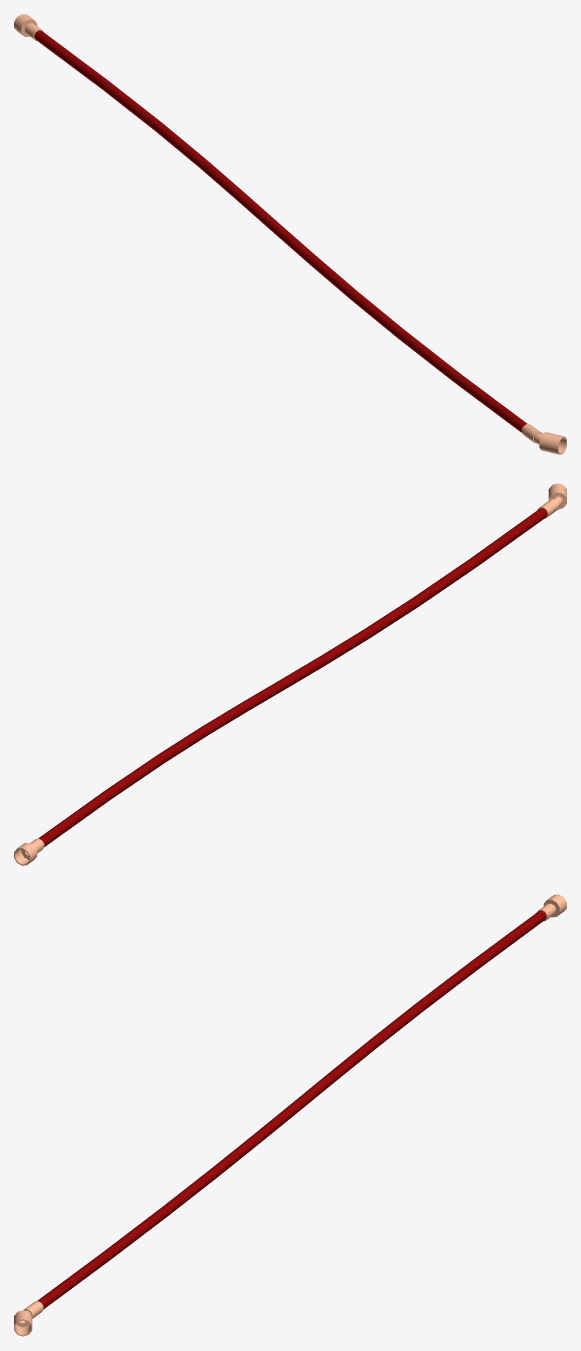
Rendered from wire_red.glb.
3 renders of one model, top to bottom at view 1: azimuth 30°, elevation 25°; view 2: azimuth 150°, elevation 25°; view 3: azimuth 330°, elevation 25°, orthographic.
Visible parts, largest first — view 1: wr_03, nr_1, wr_10, wr_04, wr_09, wr_05, wr_06, wr_08, wr_07; view 2: wr_03, wr_10, wr_04, wr_09, wr_05, nr_1, nr_2, wr_06, wr_08, wr_07, wr_02, wr_01 (+1 smaller); view 3: wr_03, wr_10, wr_04, wr_09, nr_1, wr_05, wr_06, wr_08, wr_07.
Part boxes in pixels (left/top/right/bottom): wr_03: left=396, top=329, right=460, bottom=381; nr_1: left=521, top=424, right=566, bottom=454; wr_10: left=101, top=81, right=161, bottom=131; wr_04: left=349, top=290, right=403, bottom=337; wr_09: left=154, top=122, right=204, bottom=166; wr_05: left=308, top=255, right=356, bottom=298; wr_06: left=271, top=222, right=316, bottom=263; wr_08: left=197, top=158, right=241, bottom=198; wr_07: left=234, top=190, right=278, bottom=230; wr_03: left=413, top=558, right=477, bottom=606; wr_10: left=104, top=754, right=165, bottom=799; wr_04: left=364, top=597, right=419, bottom=637; wr_09: left=159, top=725, right=210, bottom=762; wr_05: left=321, top=629, right=371, bottom=664; nr_1: left=537, top=483, right=566, bottom=518; nr_2: left=14, top=838, right=44, bottom=865; wr_06: left=281, top=655, right=328, bottom=687; wr_08: left=203, top=701, right=249, bottom=734; wr_07: left=242, top=679, right=288, bottom=710; wr_02: left=470, top=533, right=512, bottom=566; wr_01: left=505, top=508, right=547, bottom=541; wr_03: left=105, top=1206, right=169, bottom=1259; wr_10: left=417, top=961, right=478, bottom=1011; wr_04: left=162, top=1168, right=218, bottom=1214; wr_09: left=372, top=1002, right=424, bottom=1045; nr_1: left=14, top=1301, right=43, bottom=1336; wr_05: left=211, top=1134, right=261, bottom=1176; wr_06: left=254, top=1101, right=301, bottom=1141; wr_08: left=332, top=1038, right=379, bottom=1078; wr_07: left=294, top=1069, right=340, bottom=1109.
Size of the model in its own units: 0.0222 by 0.0436 by 0.9029.
2 materials, 2 textured.
